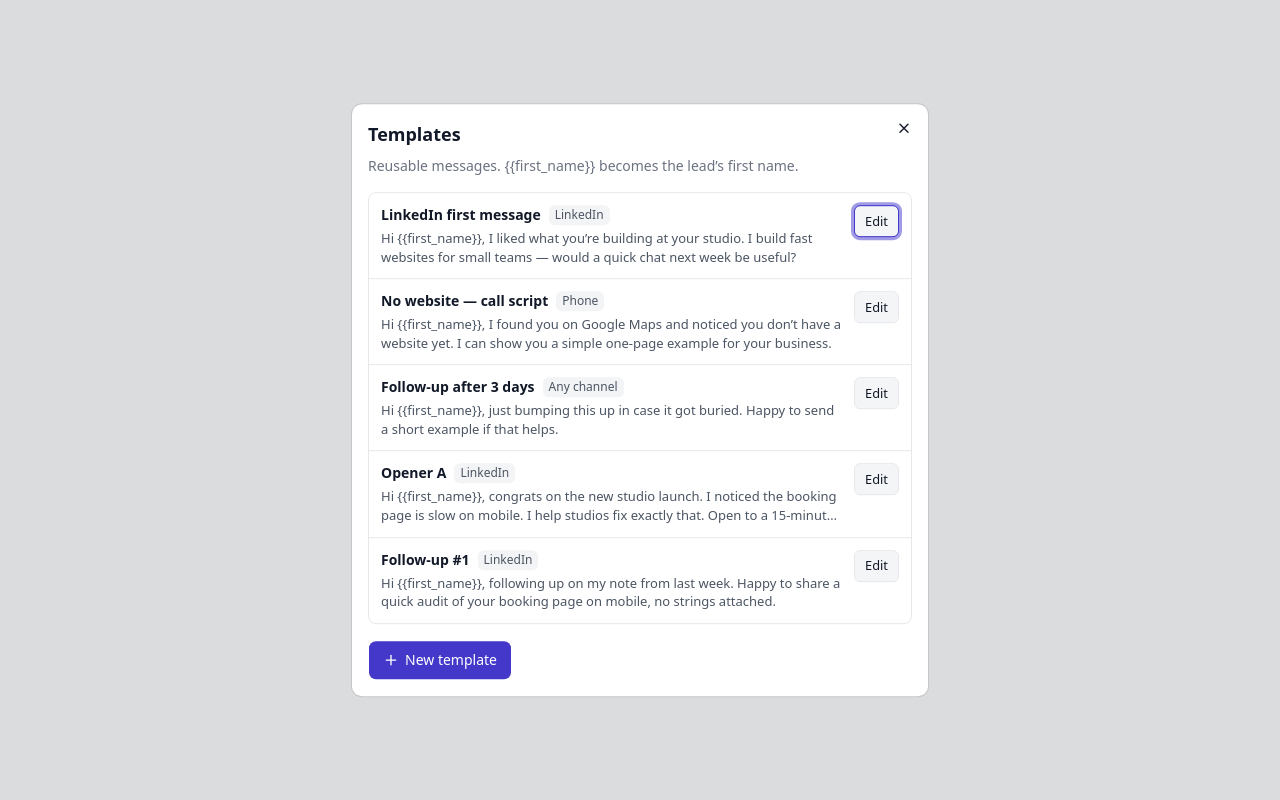
Scenario: TemplatesDialog › needs a name and a message
Click the button "New template" at (440, 660), box x1=368 y1=640 x2=512 y2=680
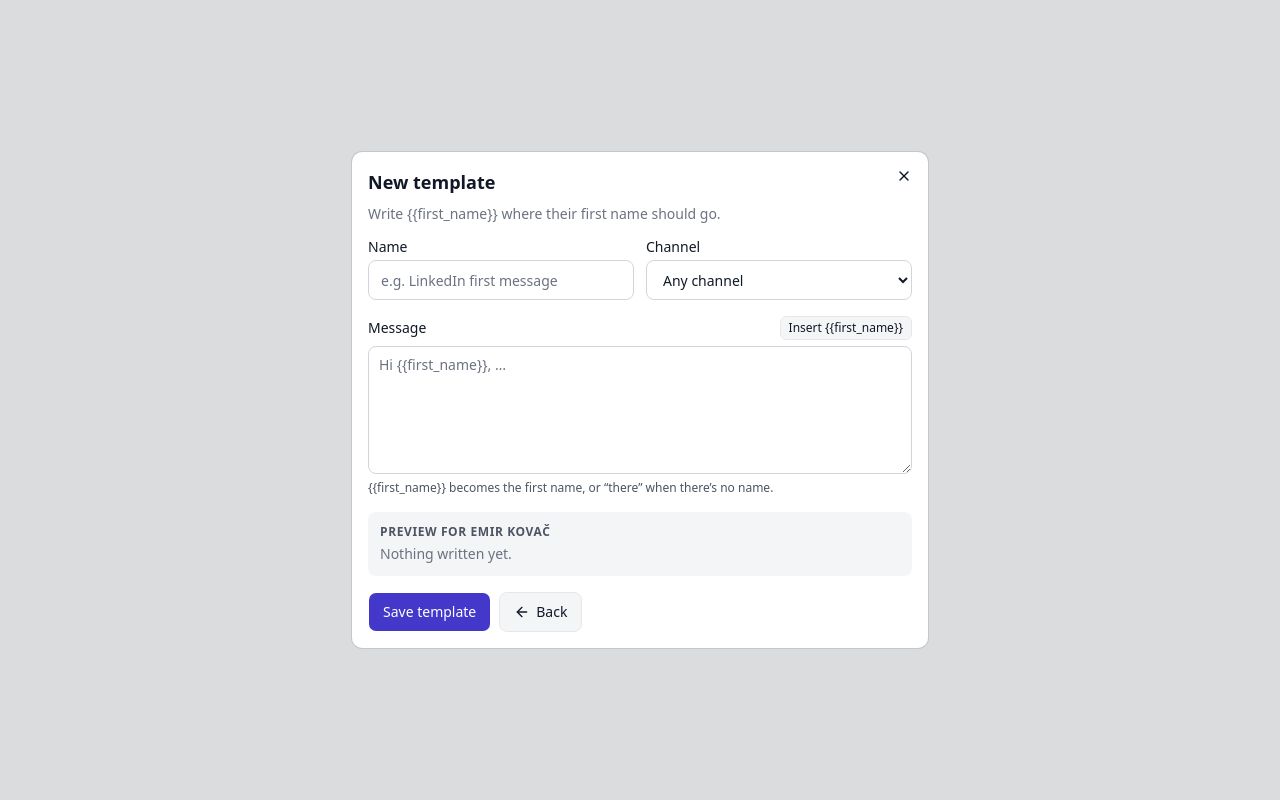
Click the button "Save template" at (430, 612), box x1=368 y1=592 x2=491 y2=632
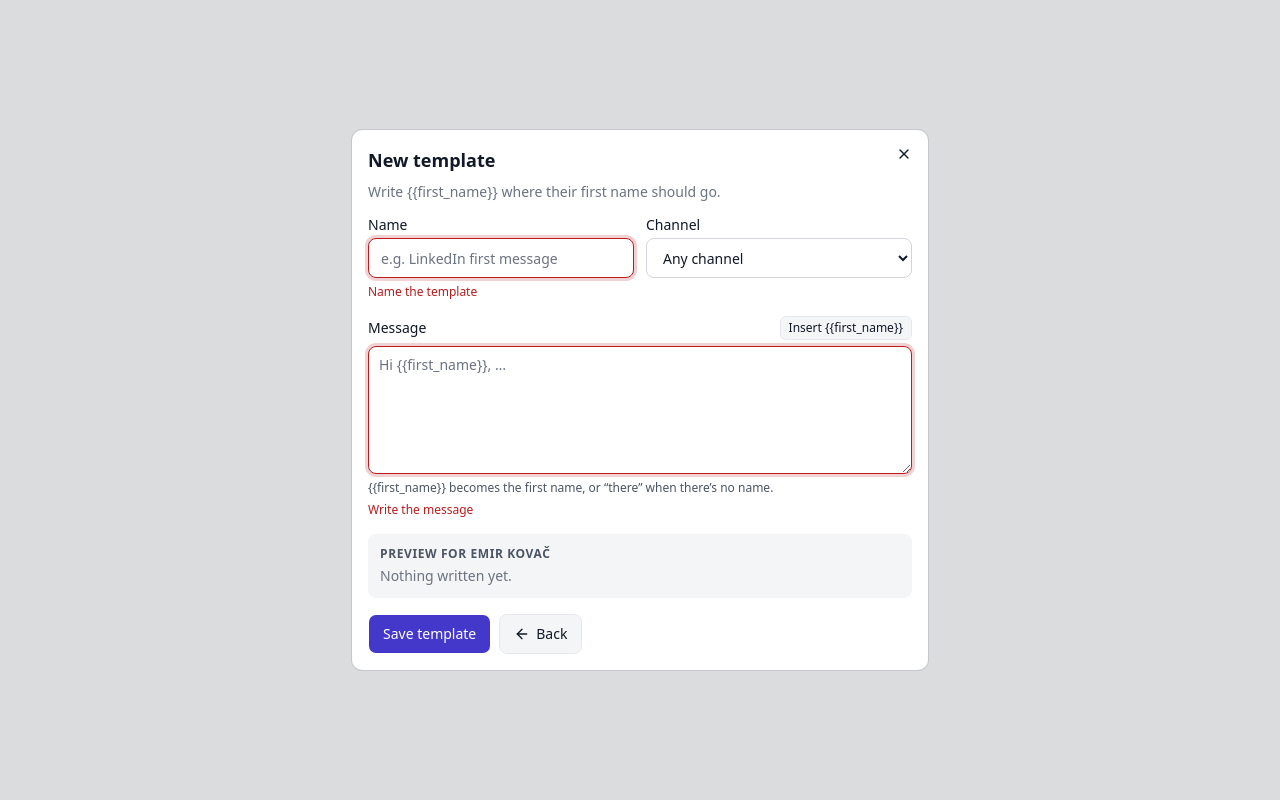
Now the text "Name the template" is shown, box x1=368 y1=283 x2=477 y2=300
Now the text "Write the message" is shown, box x1=368 y1=501 x2=473 y2=518
